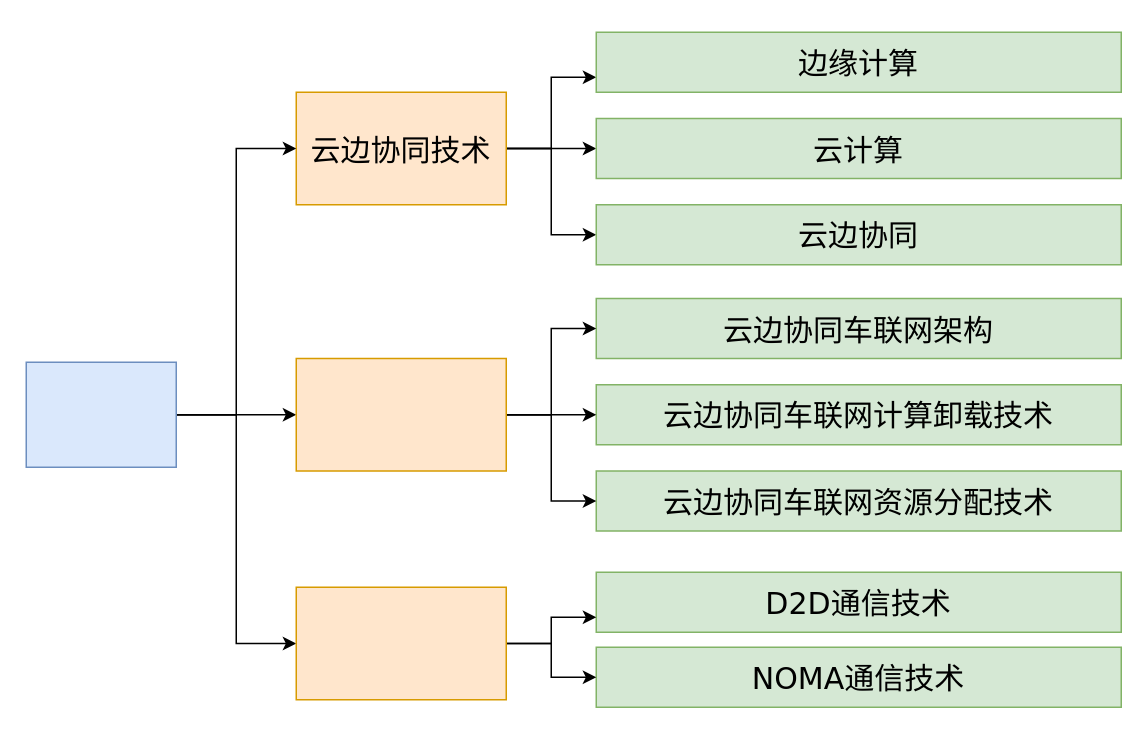
Image size: 1148x738. Some labels were removed from this diagram. Each missing label, with the box of its shape:
相关工作: (25, 361, 176, 467)
网络通信技术: (295, 586, 506, 700)
车联网技术: (295, 357, 506, 471)
